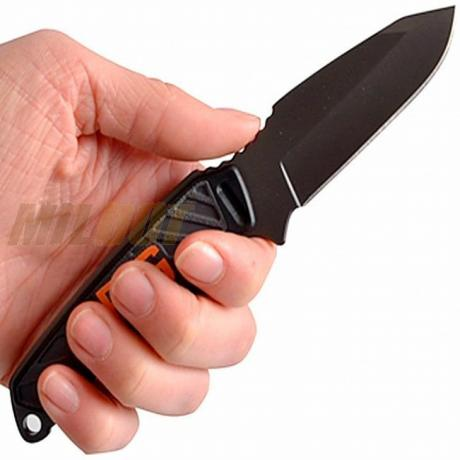1: (0, 30, 276, 460)
weapon: (16, 3, 456, 443)
